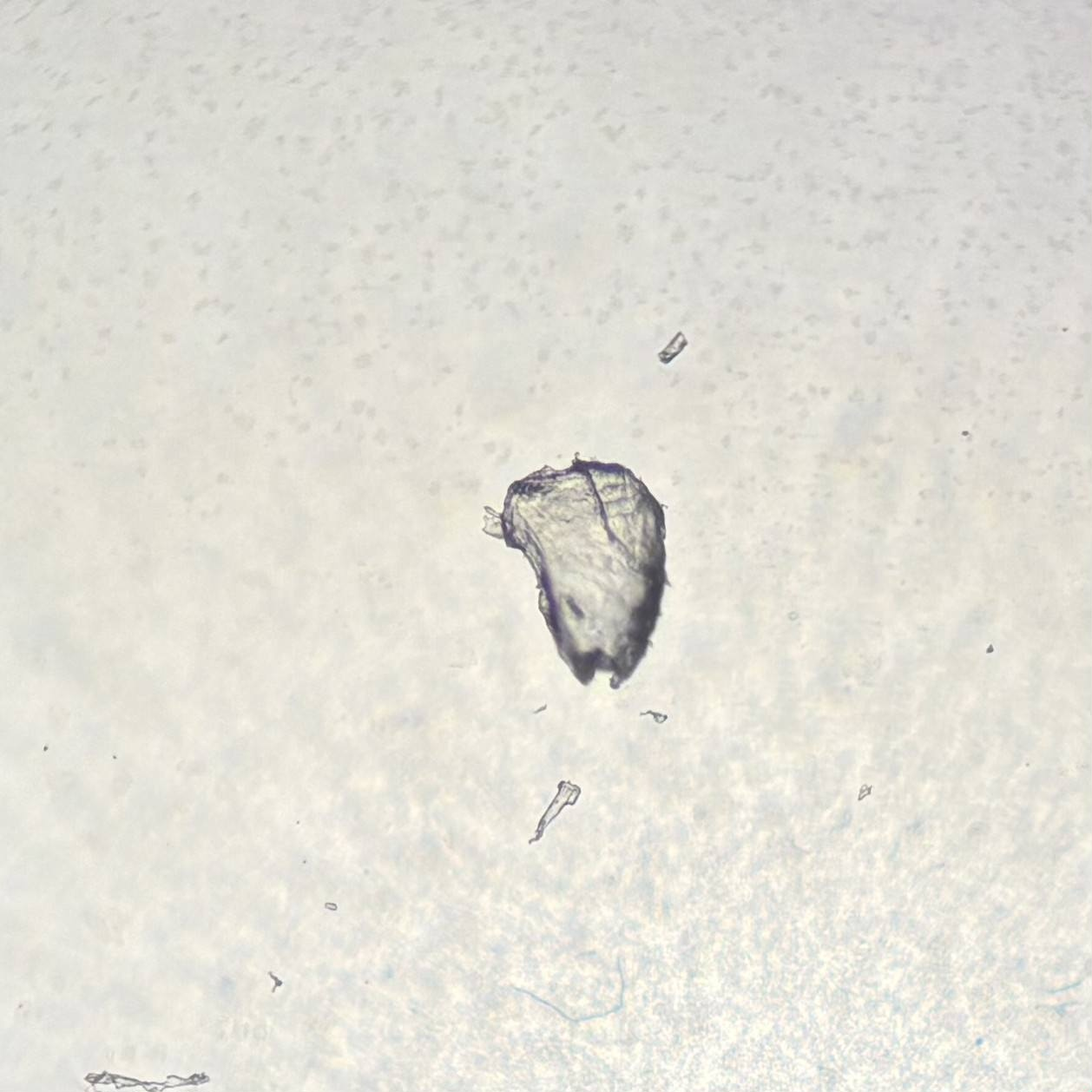microplastic: (484, 449, 668, 690), (528, 779, 591, 842), (77, 1066, 220, 1091), (655, 325, 694, 370)
